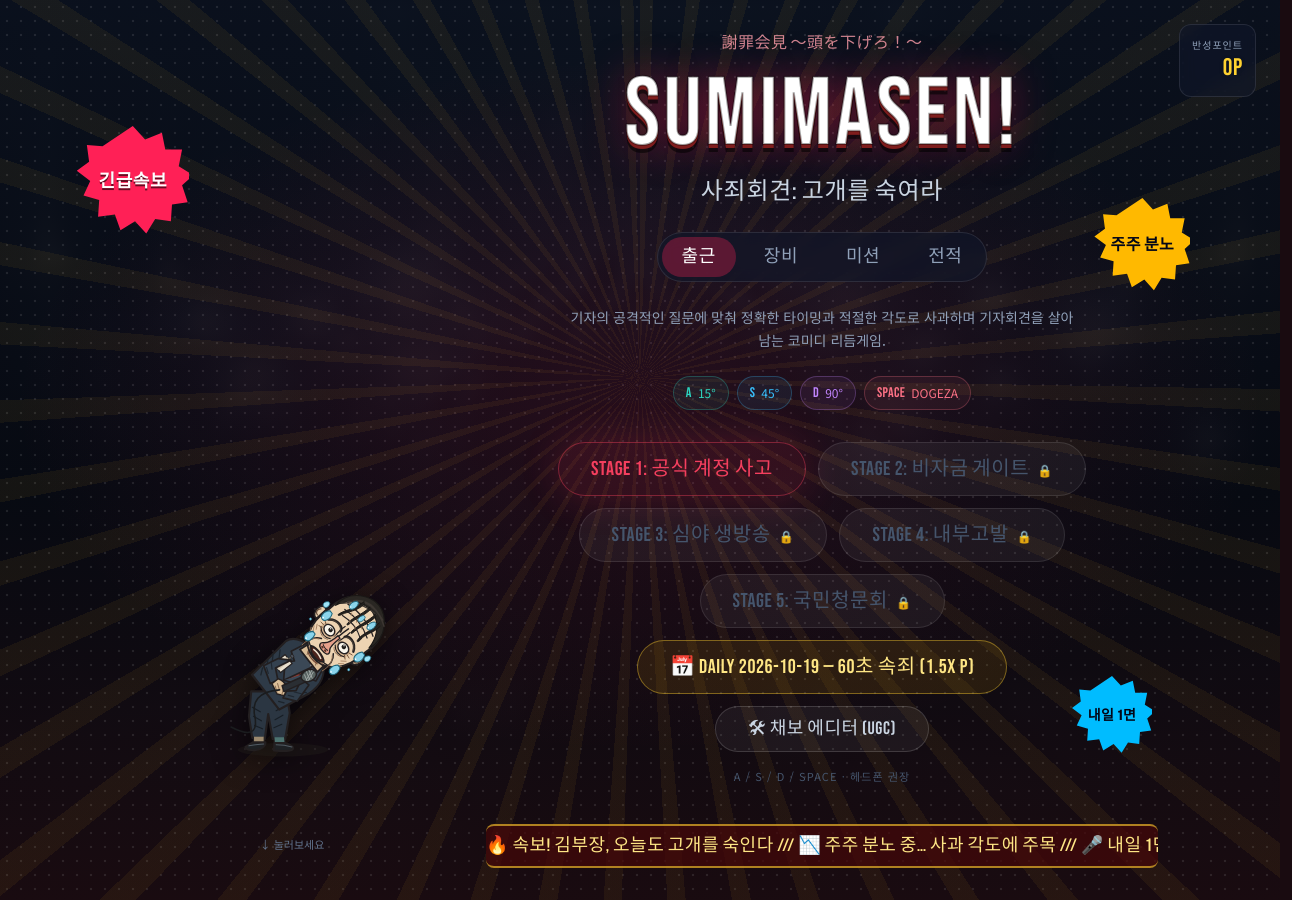
Scenario: TitleScreen › 기록 탭: 기록이 없으면 안내 문구를 보여준다
Step 1. Click the button "전적" → (945, 257), box [908,237,982,277]
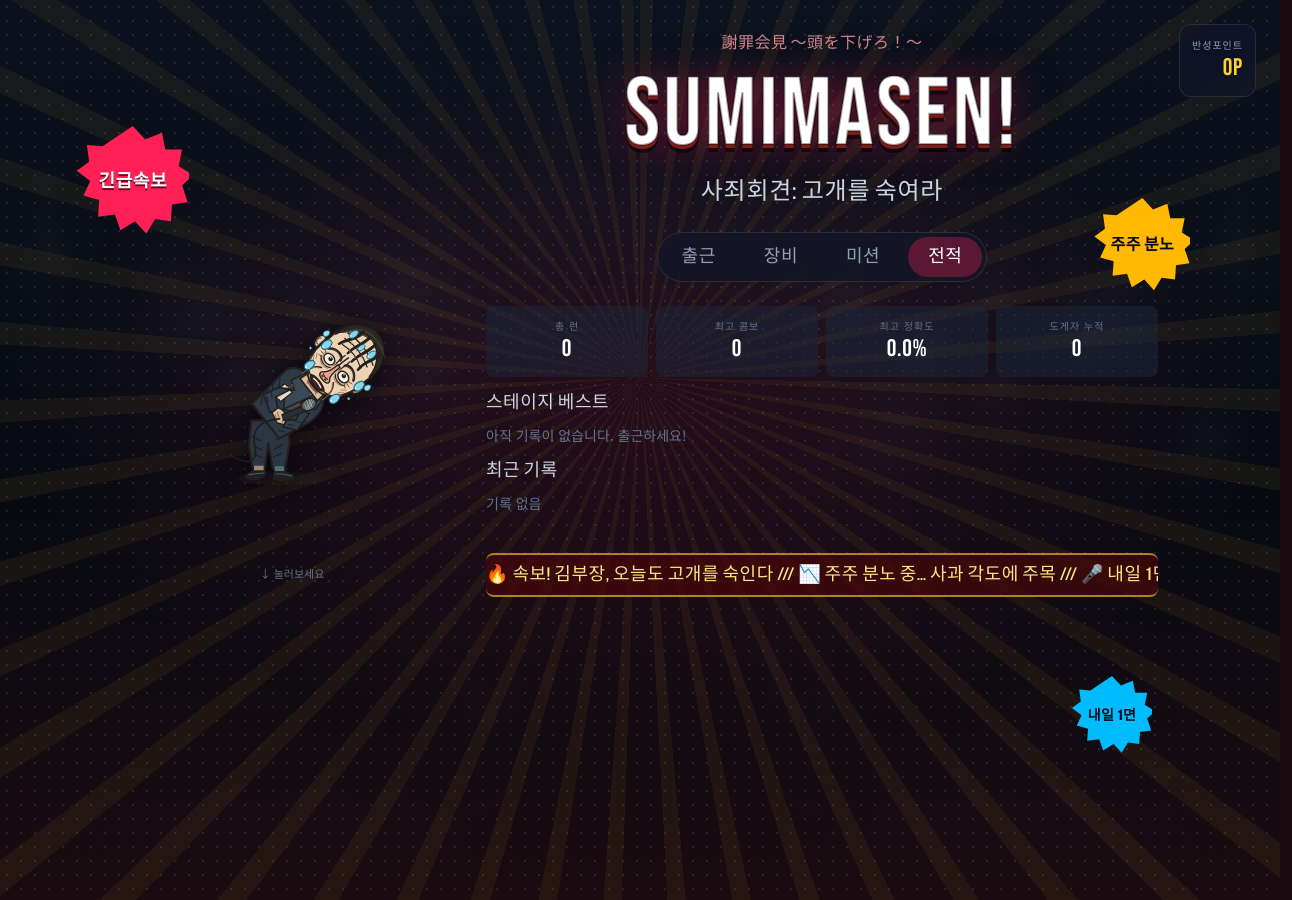
Now the text "아직 기록이 없습니다. 출근하세요!" is shown, box [486,425,686,445]
